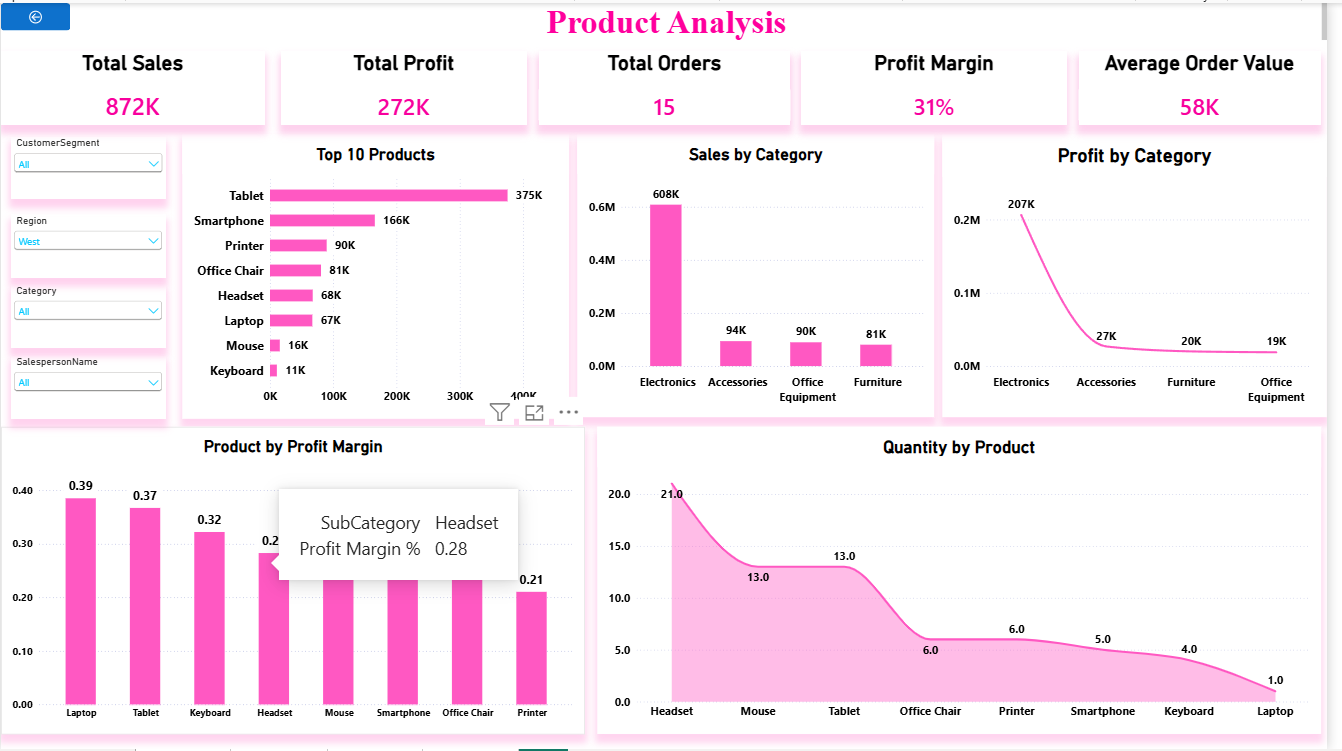

The dashboard page shown, as its layout file describes it:
{"tool":"powerbi","page":{"name":"Page 2","canvas":[1920,1080],"ordinal":1},"visuals":[{"type":"textbox","box":[142,257,280,150],"z":0},{"type":"textbox","box":[0,407,644,206],"z":1000},{"type":"textbox","box":[0,0,1920.5,77],"z":2000},{"type":"clusteredBarChart","title":"Top 10 Products","fields":{"Category":["DimProduct.ProductName.1"],"Y":["FactSales.Total Sales"]},"box":[261.5,190.8,559.9,411.7],"z":3000},{"type":"lineChart","title":"Profit by Category","fields":{"Category":["DimProduct.Category"],"Y":["FactSales.Total Profit"]},"box":[1363.1,190.8,556.9,409.2],"z":4000},{"type":"columnChart","title":"Sales by Category","fields":{"Category":["DimProduct.Category"],"Y":["FactSales.Total Sales"]},"box":[833.8,190.8,516.9,409.2],"z":5000},{"type":"areaChart","title":"Quantity by Product","fields":{"Category":["DimProduct.ProductName.1"],"Y":["FactSales.Total Quantity"]},"box":[862.4,613.4,1047.7,444.6],"z":6000},{"type":"columnChart","title":"Product by Profit Margin","fields":{"Category":["DimProduct.SubCategory"],"Y":["FactSales.Profit Margin %"]},"box":[0,613.4,846,444.6],"z":7000},{"type":"cardVisual","title":"Total Sales","fields":{"Data":["FactSales.Total Sales"]},"box":[14.7,67.9,381.5,108.2],"z":8000},{"type":"cardVisual","title":"Total Profit","fields":{"Data":["FactSales.Total Profit"]},"box":[405.4,67.9,355.8,108.2],"z":9000},{"type":"cardVisual","title":"Total Orders","fields":{"Data":["FactSales.Total Orders"]},"box":[777.7,67.9,365,108.2],"z":10000},{"type":"cardVisual","title":"Profit Margin","fields":{"Data":["FactSales.Profit Margin %"]},"box":[1157.4,67.9,385.2,108.2],"z":11000},{"type":"cardVisual","title":"Average Order Value","fields":{"Data":["FactSales.Average Order Value"]},"box":[1559.1,67.9,350.3,108.2],"z":12000},{"type":"slicer","fields":{"Values":["DimCustomer.CustomerSegment"]},"box":[14.4,193.5,224.4,90.6],"z":13000},{"type":"slicer","fields":{"Values":["DimCustomer.Region"]},"box":[14.7,306.3,223.8,91.7],"z":14000},{"type":"slicer","fields":{"Values":["DimProduct.Category"]},"box":[14.7,407.2,223.8,91.7],"z":15000},{"type":"slicer","fields":{"Values":["DimSalesperson.SalespersonName"]},"box":[14.7,509.9,223.8,91.7],"z":16000},{"type":"actionButton","box":[0,0,100,40],"z":17000}]}

Visuals, with their boxes in screenshot pixels (x1, y1, x2, y2), scaled from the page's 1920x1080 canvas onto the 1342x751 screenshot:
textbox: <bbox>99, 179, 295, 283</bbox>
textbox: <bbox>0, 283, 450, 426</bbox>
textbox: <bbox>0, 0, 1341, 54</bbox>
"Top 10 Products" clusteredBarChart: <bbox>183, 133, 574, 419</bbox>
"Profit by Category" lineChart: <bbox>953, 133, 1341, 417</bbox>
"Sales by Category" columnChart: <bbox>583, 133, 944, 417</bbox>
"Quantity by Product" areaChart: <bbox>603, 427, 1335, 736</bbox>
"Product by Profit Margin" columnChart: <bbox>0, 427, 591, 736</bbox>
"Total Sales" cardVisual: <bbox>10, 47, 277, 122</bbox>
"Total Profit" cardVisual: <bbox>283, 47, 532, 122</bbox>
"Total Orders" cardVisual: <bbox>544, 47, 799, 122</bbox>
"Profit Margin" cardVisual: <bbox>809, 47, 1078, 122</bbox>
"Average Order Value" cardVisual: <bbox>1090, 47, 1335, 122</bbox>
slicer - DimCustomer.CustomerSegment: <bbox>10, 135, 167, 198</bbox>
slicer - DimCustomer.Region: <bbox>10, 213, 167, 277</bbox>
slicer - DimProduct.Category: <bbox>10, 283, 167, 347</bbox>
slicer - DimSalesperson.SalespersonName: <bbox>10, 355, 167, 418</bbox>
actionButton: <bbox>0, 0, 70, 28</bbox>
